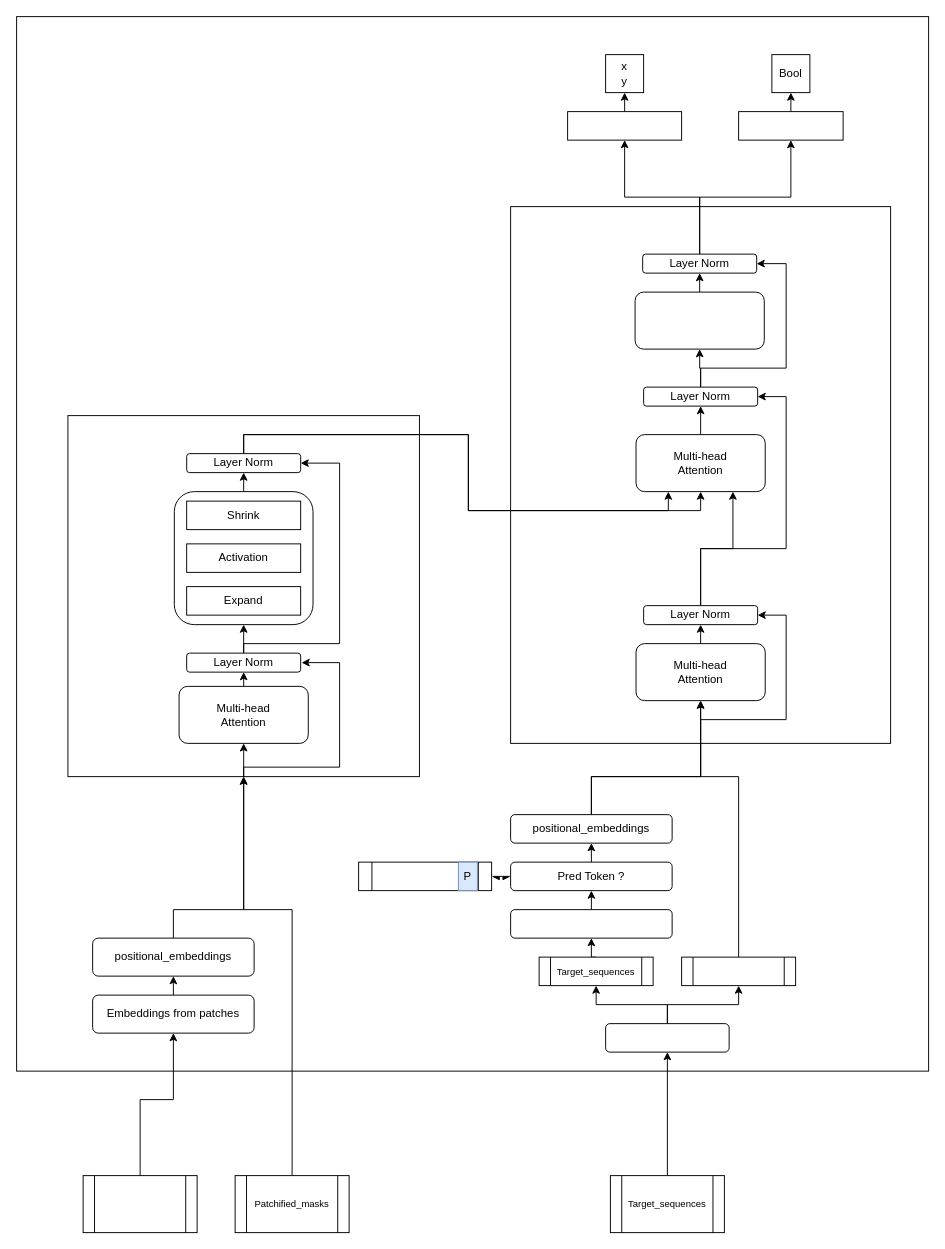
The diagram is 945 pixels wide and 1249 high, and some of its shapes have lost their labels. The shapes that lost their labels are listed below. From the top down, each one's box as (x1, y1, x2, y2) in pixels, then its label:
(567, 111, 682, 140): Ouput_MLP
(738, 111, 843, 140): STOP_MLP
(634, 291, 764, 349): FFN
(173, 491, 313, 625): Feed-Forward
(67, 415, 419, 777): Encoder
(358, 861, 492, 891): embeded sequences
(510, 909, 672, 938): embedding_sequences
(681, 956, 796, 986): target_masks
(605, 1023, 729, 1052): normalize_sequences
(82, 1175, 197, 1233): Patchified_images
